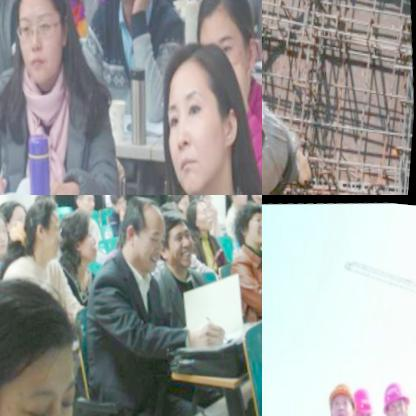head: (156, 25, 262, 195), (0, 267, 95, 416), (189, 0, 262, 97), (3, 0, 80, 81), (116, 195, 176, 273), (57, 202, 107, 273), (24, 198, 73, 265), (158, 199, 200, 264), (0, 195, 34, 242), (233, 195, 262, 247), (186, 195, 216, 229), (31, 195, 67, 223), (0, 208, 14, 256), (72, 195, 101, 216), (108, 195, 134, 216), (168, 195, 195, 215), (187, 195, 218, 209), (226, 195, 253, 207)
helmet: (379, 368, 416, 416), (325, 370, 362, 416), (350, 378, 381, 416)
